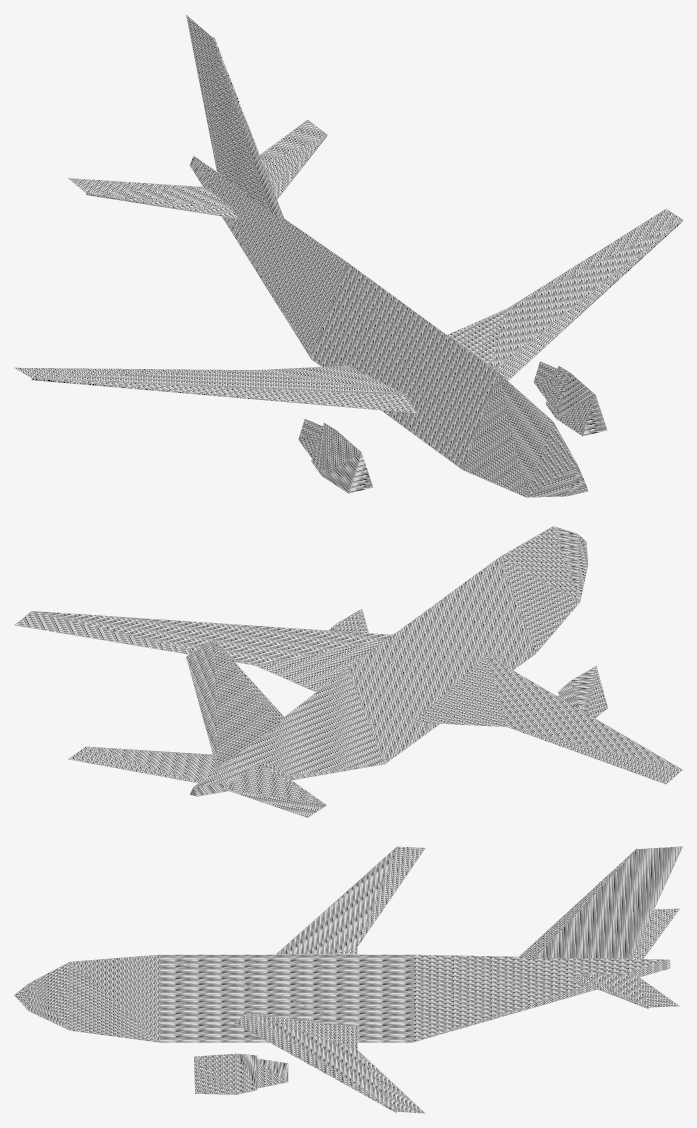
The model's file is TFS_Airbus_A310-300_GE_MSFS_LOD1.gltf.
3 renders of one model, top to bottom at view 1: azimuth 30°, elevation 25°; view 2: azimuth 150°, elevation 25°; view 3: azimuth 270°, elevation 25°, orthographic. The views are drawn at different scales.
Visible parts, largest first — view 1: node1; view 2: node1; view 3: node1.
Part boxes in pixels (left/top/right/bottom): node1: left=14, top=15, right=682, bottom=497; node1: left=14, top=526, right=682, bottom=817; node1: left=14, top=846, right=682, bottom=1113.
Bounding box in the file's own units: 43.88 × 15.01 × 46.7.
